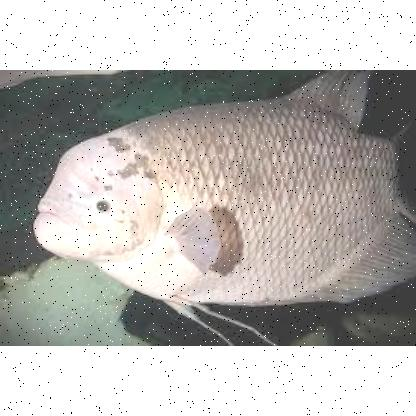gurame: (34, 88, 416, 320)
